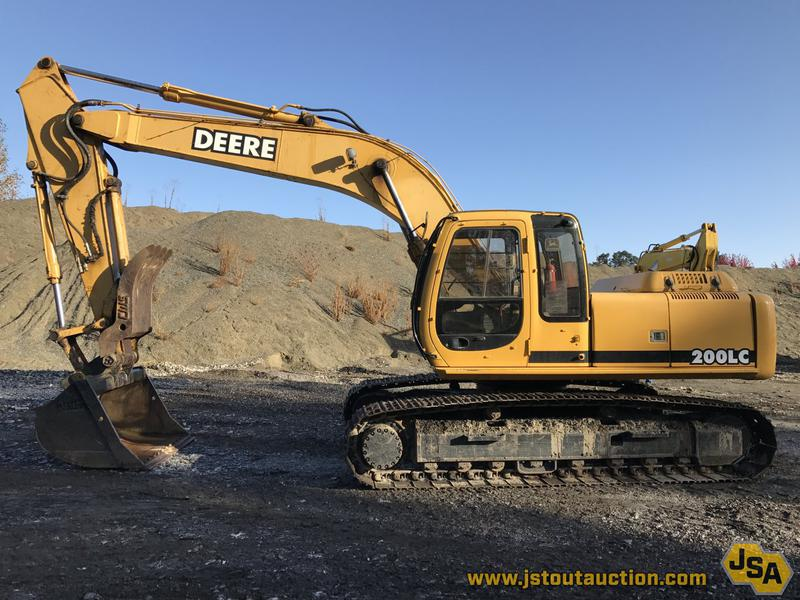shovel: (13, 47, 786, 499)
